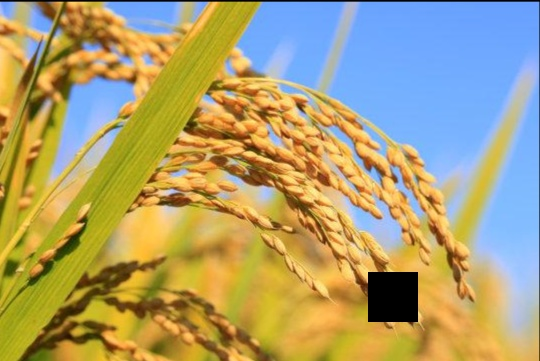rice: (46, 5, 487, 340)
